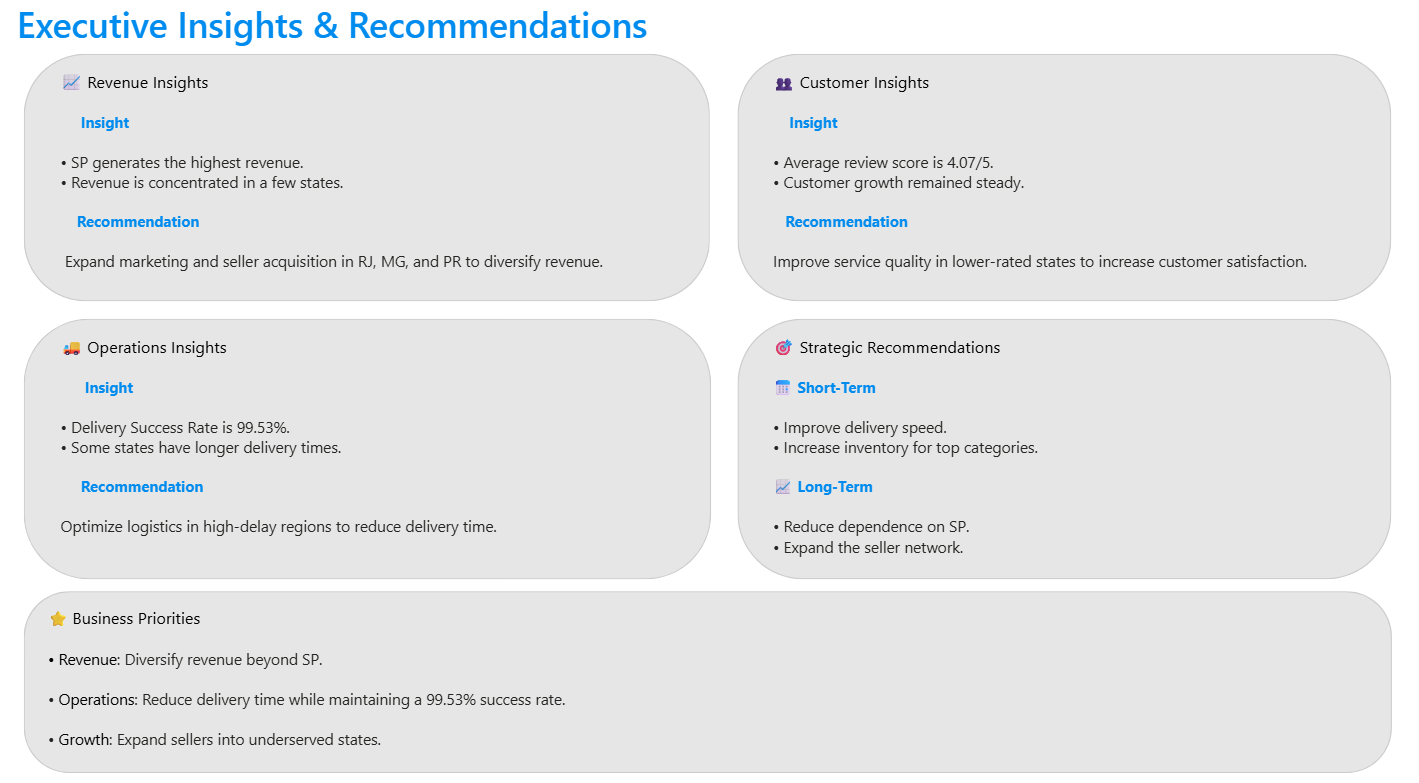

What the dashboard file says about the page in this screenshot:
{"tool":"powerbi","page":{"name":"Executive Insights","canvas":[1280,720],"ordinal":3},"visuals":[{"type":"textbox","box":[10.1,9,654.9,53],"z":0},{"type":"shape","box":[21.4,62,618.8,223.2],"z":1000},{"type":"shape","box":[665,62,589.5,223.2],"z":2000},{"type":"shape","box":[20.9,301.2,619.8,234.9],"z":3000},{"type":"shape","box":[665.1,301.2,589.5,234.9],"z":4000},{"type":"shape","box":[20.9,546.5,1233.7,164],"z":5000},{"type":"textbox","box":[50,72.1,561.6,204.7],"z":5001},{"type":"textbox","box":[691.9,72.1,536,204.7],"z":5002},{"type":"textbox","box":[50,311.6,561.6,212.8],"z":5003},{"type":"textbox","box":[691.9,311.6,536,212.8],"z":5004},{"type":"textbox","box":[38.4,555.8,1198.8,144.2],"z":5005}]}

Visuals, with their boxes in screenshot pixels (x1, y1, x2, y2), scaled from the page's 1280x720 canvas onto the 1419x783 screenshot:
textbox: (11, 10, 737, 67)
shape: (24, 67, 710, 310)
shape: (737, 67, 1391, 310)
shape: (23, 328, 710, 583)
shape: (737, 328, 1391, 583)
shape: (23, 594, 1391, 773)
textbox: (55, 78, 678, 301)
textbox: (767, 78, 1361, 301)
textbox: (55, 339, 678, 570)
textbox: (767, 339, 1361, 570)
textbox: (43, 604, 1372, 761)
